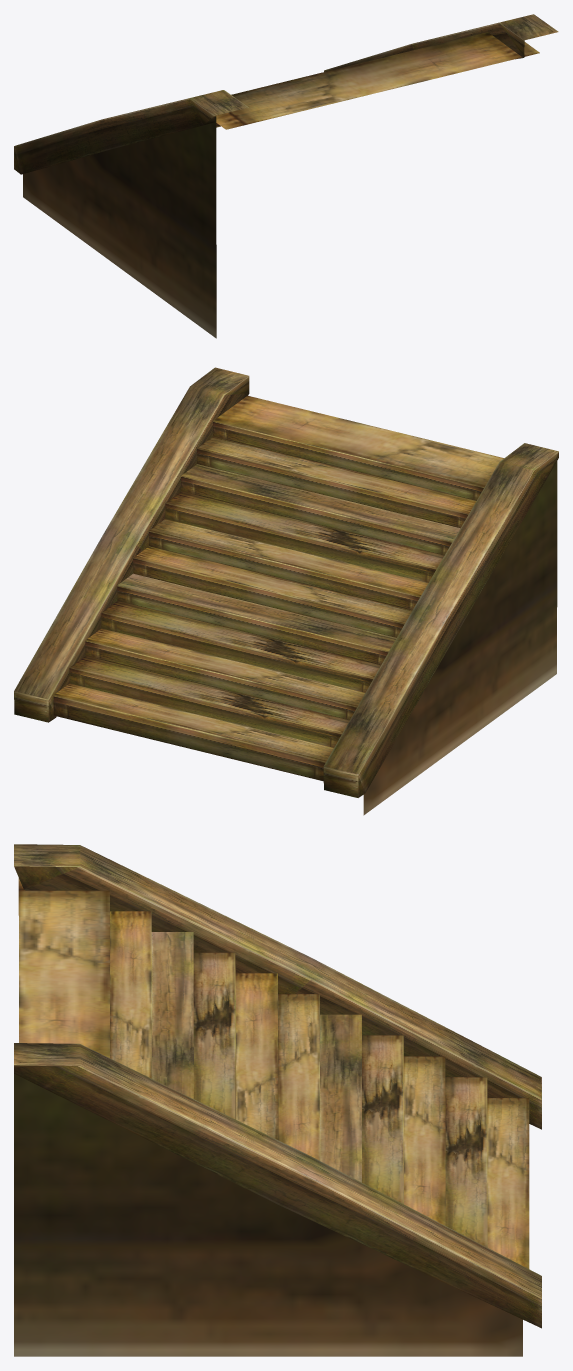
Rendered from a_SWFstair01.glb.
The picture shows the model from 3 angles, top to bottom: view 1: azimuth 30°, elevation 25°; view 2: azimuth 150°, elevation 25°; view 3: azimuth 270°, elevation 25°; orthographic projection. The views are drawn at different scales.
Visible parts, largest first — view 1: a_SWFstair01; view 2: a_SWFstair01; view 3: a_SWFstair01.
Boxes of the visible parts, x1,y1,x2,y2 form: a_SWFstair01: (14,14,558,338); a_SWFstair01: (14,367,558,815); a_SWFstair01: (14,844,541,1356).
Bounding box in the file's own units: 4.06 × 2.51 × 4.23.
2 materials, 2 textured.
